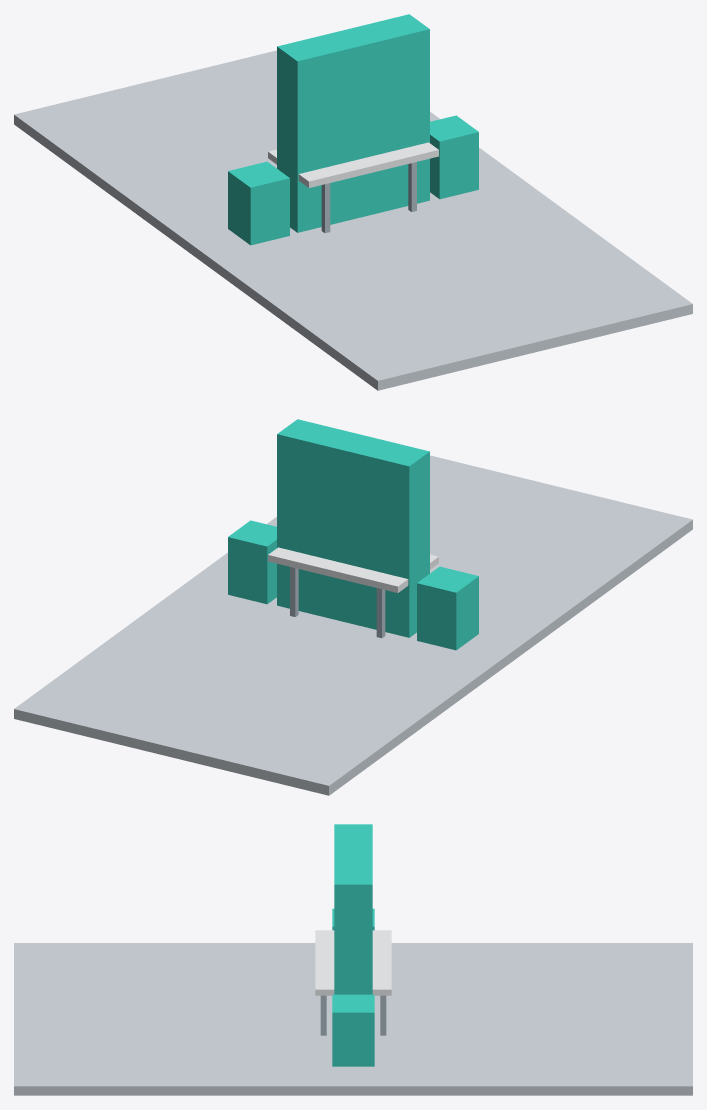
The picture shows the model from 3 angles, top to bottom: view 1: azimuth 30°, elevation 25°; view 2: azimuth 150°, elevation 25°; view 3: azimuth 270°, elevation 25°; orthographic projection. The views are drawn at different scales.
Visible parts, largest first — view 1: Exhibition Booth Concept; view 2: Exhibition Booth Concept; view 3: Exhibition Booth Concept.
Part boxes in pixels (x1,y1,x2,y2): Exhibition Booth Concept: (14,14,692,390); Exhibition Booth Concept: (14,419,692,795); Exhibition Booth Concept: (14,824,692,1095).
Bounding box in the file's own units: 4 × 2.2 × 8.
